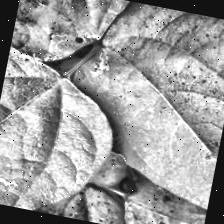ALS: (52, 0, 224, 224), (0, 43, 128, 223), (10, 0, 130, 70)
